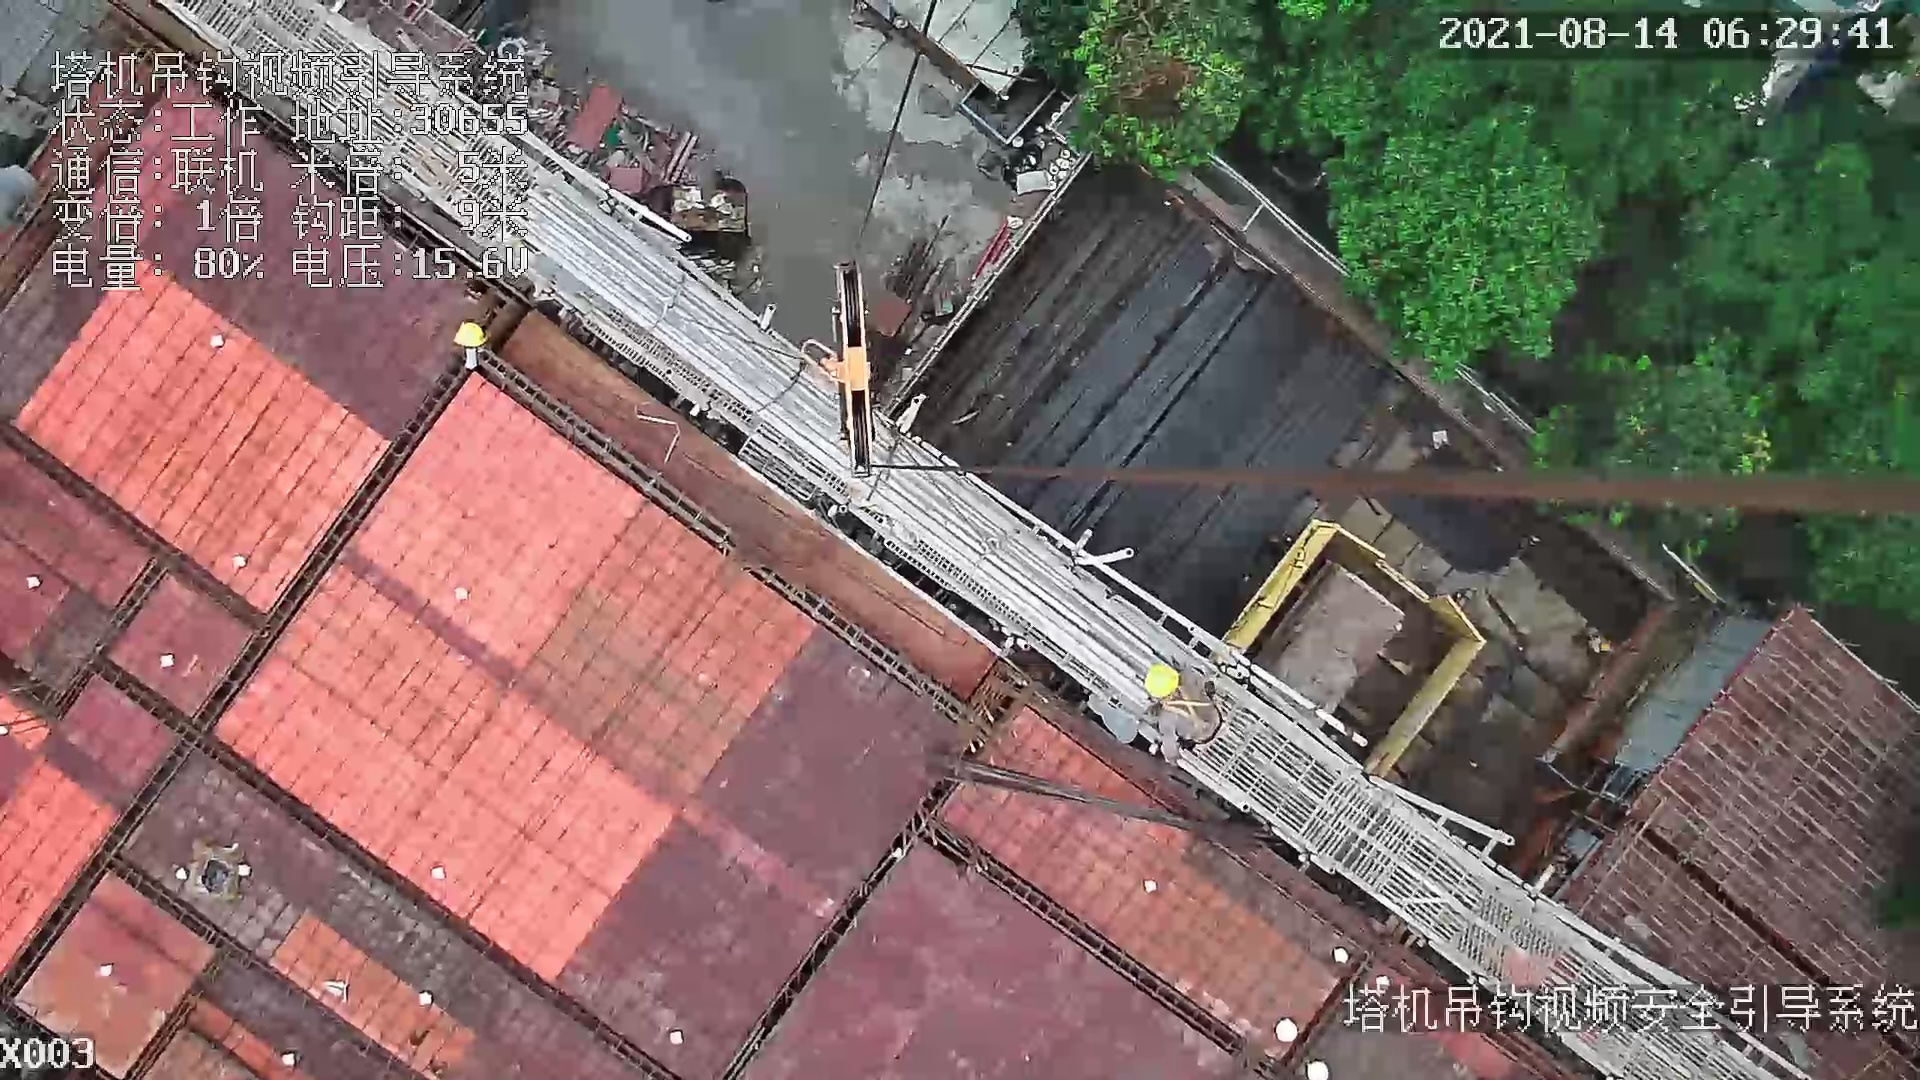helmet: (1137, 660, 1183, 700), (449, 318, 492, 354)
hook: (824, 260, 879, 486)
person: (1138, 660, 1235, 765)
rebar: (935, 182, 1318, 595)
